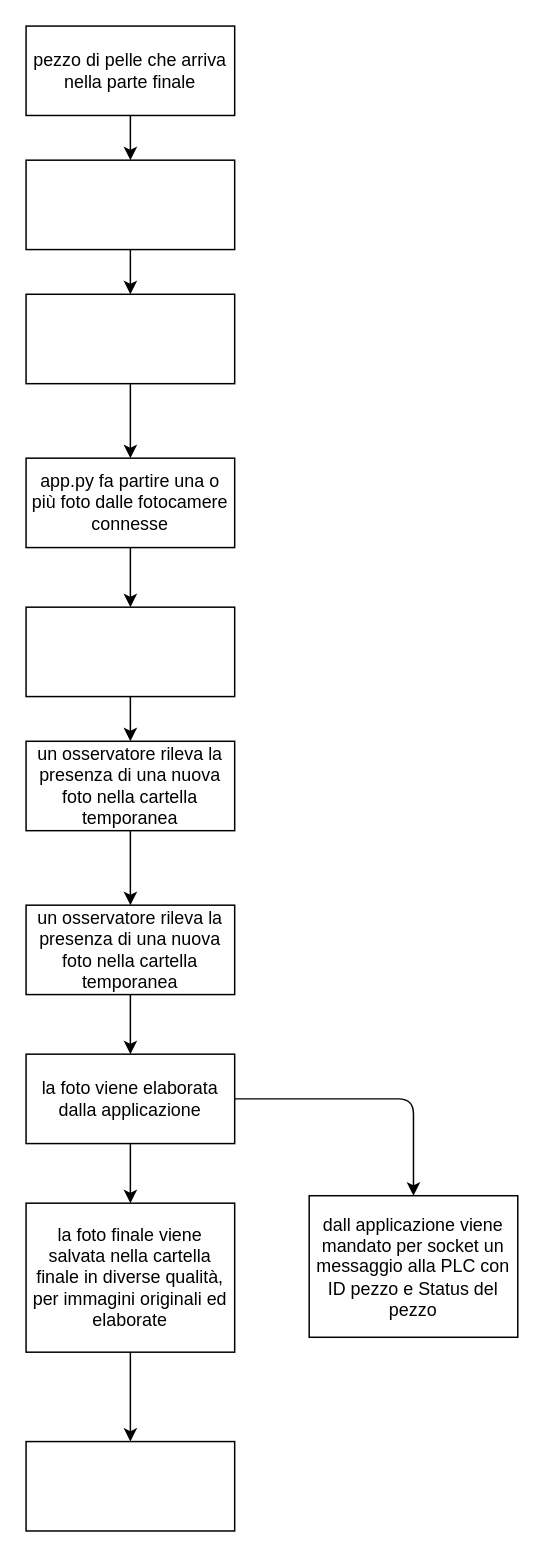
Image size: 544x1557. Some labels were removed from this diagram. The centre of each missing label's shape, as x and y in pixels:
"funzione che calcola quando fare la foto" goes at pixel 130 338.
"il frontend richiede una foto da visualizzare e la prende dalla cartella finale" goes at pixel 130 1485.
"la foto viene salvata in una cartella temporanea in diverse qualità" goes at pixel 130 651.
"sensore PLC rileva l'arrivo del pezzo" goes at pixel 130 204.
